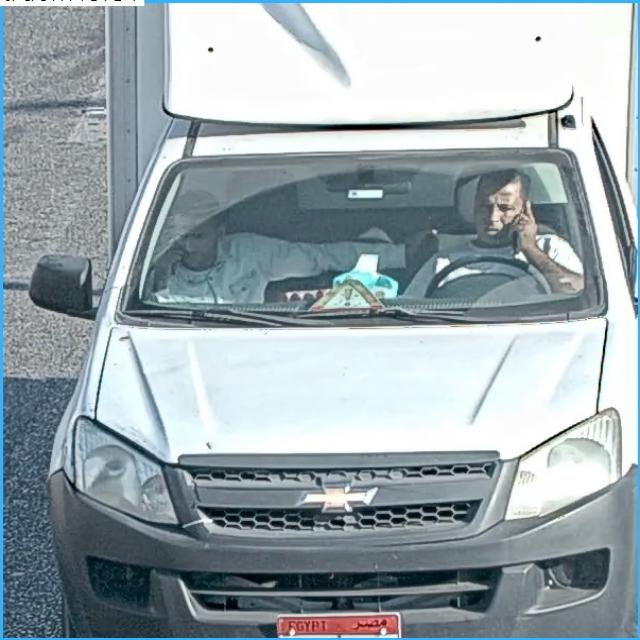windshield: (132, 159, 596, 312)
